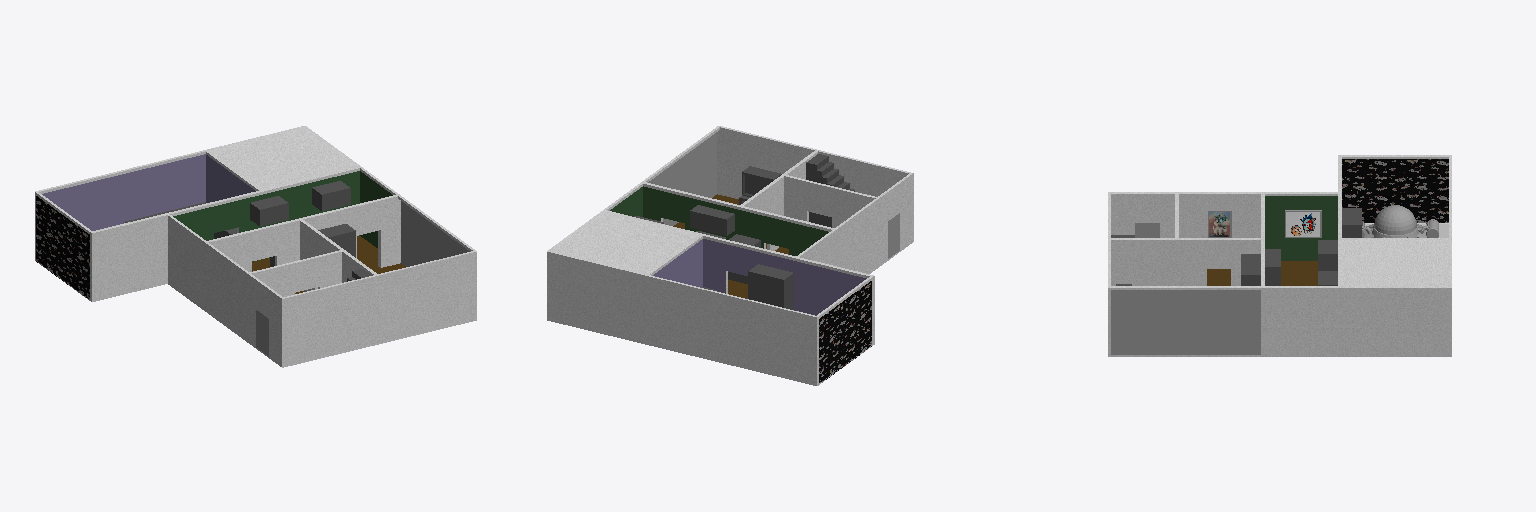
3 renders of one model, left to right at view 1: azimuth 30°, elevation 25°; view 2: azimuth 150°, elevation 25°; view 3: azimuth 270°, elevation 25°, orthographic.
Visible parts, largest first — view 1: Cube, Kitchen.Cabinet2_Cube.015, Kitchen.Cabinet1_Cube.014, Living.Shelf_Cube.006; view 2: Cube, Garage.Shelf_Cube.005, Foyer.Stairs_Plane, Kitchen.Cabinet3_Cube.016, Living.Tv_Cube.013; view 3: Cube, Rmspaceship, Painting2_Cube.021, Painting1_Cube.020, Living.Shelf_Cube.006, Kitchen.Cabinet2_Cube.015, Garage.Shelf_Cube.005, Kitchen.Cabinet3_Cube.016.
Boxes of the visible parts, box(x1,y1,x2,y2) form: Cube: box(35, 126, 476, 367); Kitchen.Cabinet2_Cube.015: box(250, 196, 288, 226); Kitchen.Cabinet1_Cube.014: box(312, 181, 350, 210); Living.Shelf_Cube.006: box(318, 224, 355, 257); Cube: box(547, 126, 913, 385); Garage.Shelf_Cube.005: box(748, 264, 793, 309); Foyer.Stairs_Plane: box(806, 154, 854, 227); Kitchen.Cabinet3_Cube.016: box(690, 205, 734, 235); Living.Tv_Cube.013: box(742, 166, 781, 196); Cube: box(1108, 155, 1451, 356); Rmspaceship: box(1362, 205, 1438, 237); Painting2_Cube.021: box(1285, 210, 1321, 237); Painting1_Cube.020: box(1208, 210, 1231, 237); Living.Shelf_Cube.006: box(1241, 254, 1260, 285); Kitchen.Cabinet2_Cube.015: box(1318, 240, 1337, 270); Garage.Shelf_Cube.005: box(1342, 208, 1361, 237); Kitchen.Cabinet3_Cube.016: box(1265, 249, 1280, 283).
Bounding box in the file's own units: 0.8032 × 0.1954 × 0.8843.
20 materials, 4 textured.